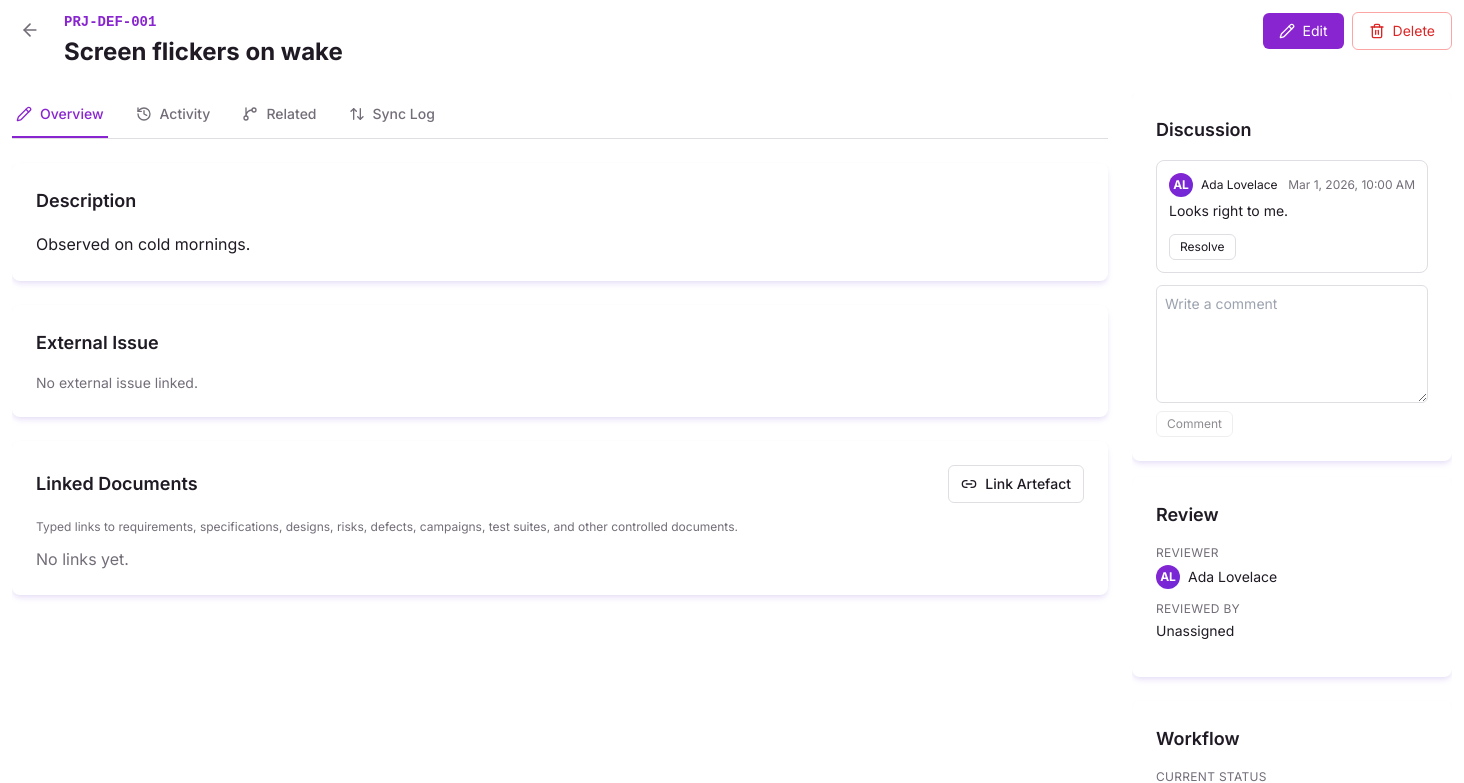
it: a defect in detail › edits in place rather than opening the document editor
This screenshot has width=1464, height=783.
Click the button "Edit" at [1303, 31], box [1263, 13, 1344, 49]
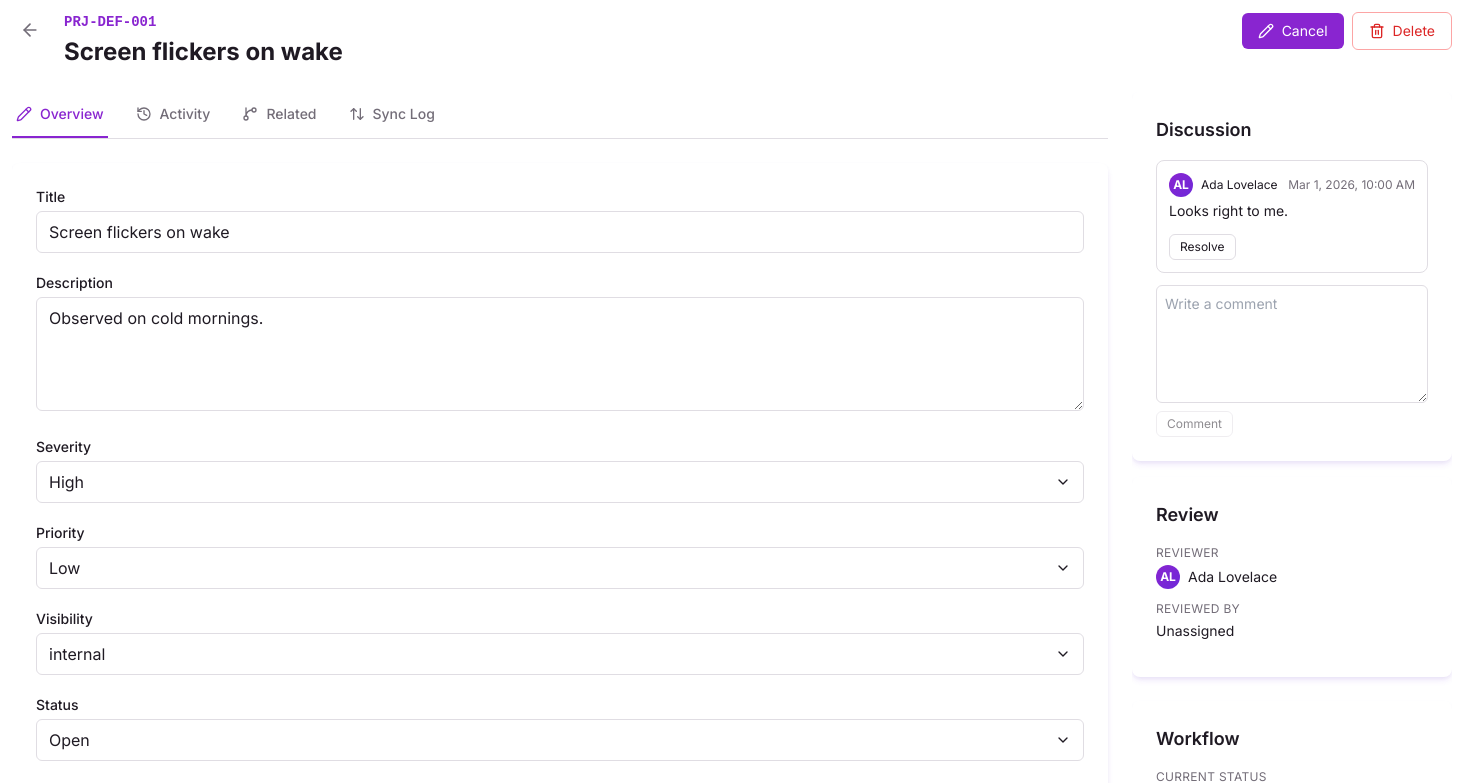
Expected: the field titled "Defect title" is shown, [36, 211, 1084, 253]
Expected: the text box titled "Defect description" is shown, [36, 297, 1084, 411]
